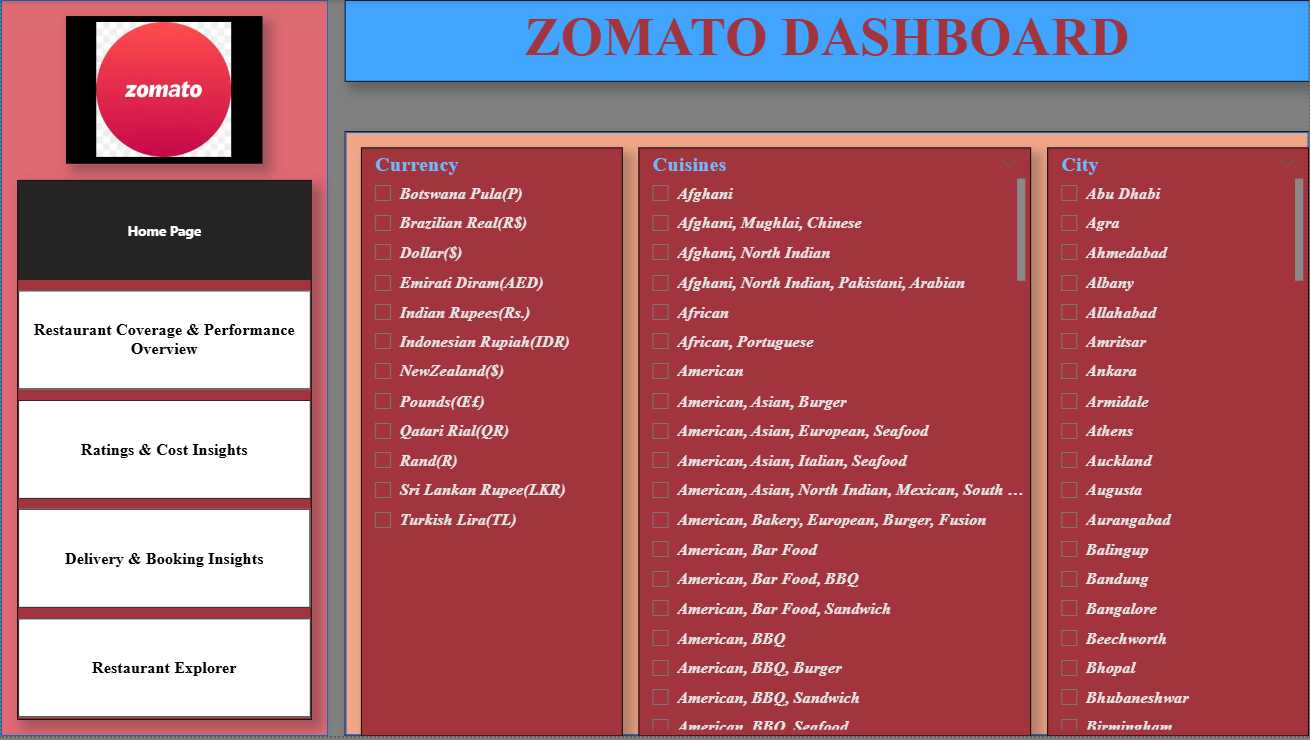

This screenshot's page, from the dashboard's own definition file:
{"tool":"powerbi","page":{"name":"Home Page","canvas":[1280,720],"ordinal":0},"visuals":[{"type":"shape","box":[336,128,944,592],"z":0},{"type":"shape","box":[0,0,320,720],"z":1000},{"type":"pageNavigator","box":[16,176,288,528],"z":2000},{"type":"image","box":[64,16,192,144],"z":3000},{"type":"textbox","box":[336,0,944,80],"z":4000},{"type":"slicer","fields":{"Values":["zomato.City"]},"box":[1024,144,256,576],"z":5000},{"type":"slicer","fields":{"Values":["zomato.Cuisines"]},"box":[624,144,384,576],"z":6000},{"type":"slicer","fields":{"Values":["zomato.Currency"]},"box":[352,144,256,576],"z":7000}]}

Visuals, with their boxes in screenshot pixels (x1, y1, x2, y2), scaled from the page's 1280x720 canvas onto the 1310x740 screenshot:
shape: l=344, t=132, r=1309, b=739
shape: l=0, t=0, r=328, b=739
pageNavigator: l=16, t=181, r=311, b=724
image: l=66, t=16, r=262, b=164
textbox: l=344, t=0, r=1309, b=82
slicer - zomato.City: l=1048, t=148, r=1309, b=739
slicer - zomato.Cuisines: l=639, t=148, r=1032, b=739
slicer - zomato.Currency: l=360, t=148, r=622, b=739
